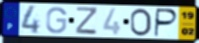4: (20, 5, 43, 35), (102, 7, 122, 36)
G: (45, 6, 68, 35)
O: (129, 8, 153, 38)
P: (153, 8, 179, 39)
Z: (75, 6, 99, 36)
